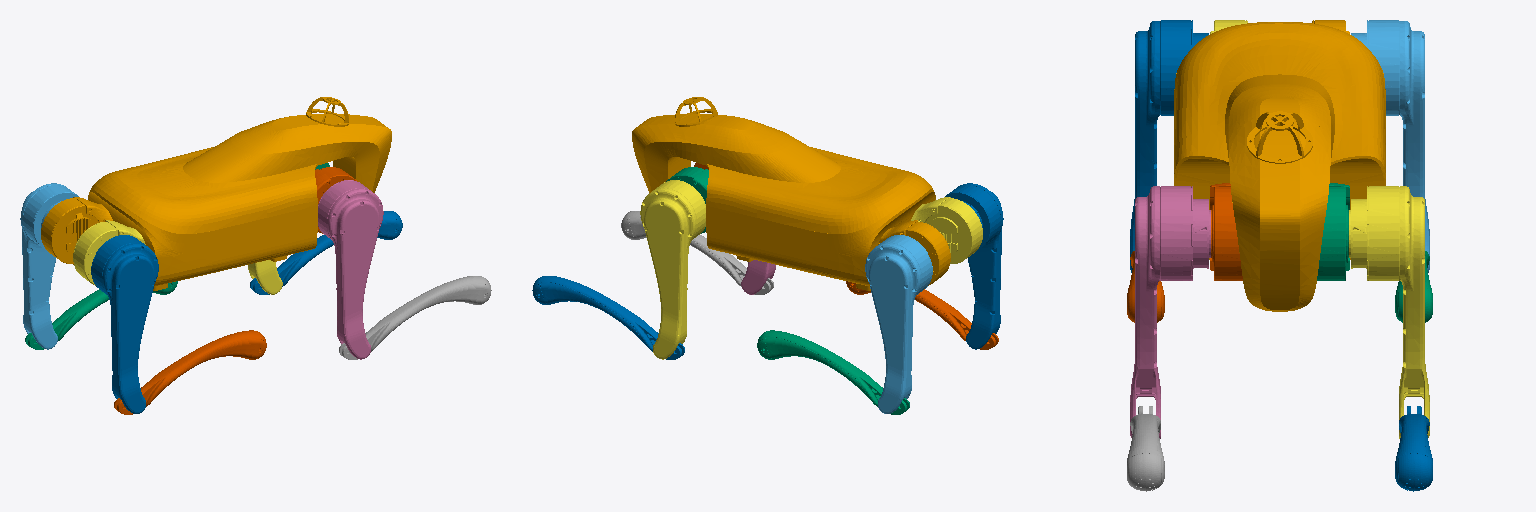
robot.urdf — wr3:
<?xml version="1.0" encoding="utf-8"?>
<!-- This URDF was automatically created by SolidWorks to URDF Exporter! Originally created by [author] ([email redacted]) 
     Commit Version: 1.6.0-4-g7f85cfe  Build Version: 1.6.7995.38578
     For more information, please see http://wiki.ros.org/sw_urdf_exporter -->

<robot name="wr3">

  <mujoco>
    <compiler meshdir="./meshes" balanceinertia="true" discardvisual="false"/>
  </mujoco>
  

  <link  name="trunk_link">
    <inertial>
      <origin  xyz="0 0 0" />
      <mass  value="0" />
      <inertia  ixx="0"  ixy="0"  ixz="0"  iyy="0"  iyz="0"  izz="0" />
    </inertial>
    <visual>
      <geometry>
        <mesh  filename="./meshes/trunk_link.STL" />
      </geometry>
    </visual>
    <collision>
      <geometry>
        <mesh  filename="./meshes/trunk_link.STL" />
      </geometry>
    </collision>
    <!-- Shell self filtering -->
    <self_filter>
        <origin rpy="0 0 0" xyz="0 0 0"/>
        <geometry>
            <box size="1.05 0.5 0.5"/>
        </geometry>
    </self_filter>
  </link>

  <link name="BASE_INER">
    <inertial>
      <origin  xyz="0.023376 0.001413 0.010474" />
      <mass  value="8.028" />
      <inertia  ixx="0.034"  ixy="-1.22E-04"  ixz="9.85E-3"  iyy="0.107105"  iyz="-1.16e-4"  izz="0.115227" />
    </inertial>
  </link>

  <joint name="Base2Iner" type="fixed">
    <parent link="trunk_link" />
    <child link="BASE_INER" />
  </joint>

  <link
    name="FL_hip_link">
    <inertial>
      <origin  xyz="0.057196 0.003387 -8.5E-05" />
      <mass value="0.838" />
      <inertia ixx="0.00059007"  ixy="2.6497E-05"  ixz="6.35E-07"  iyy="0.0010451"  iyz="1.276E-06"  izz="0.00073728" />
    </inertial>
    <visual>
      <geometry>
        <mesh filename="./meshes/FL_hip_link.STL" />
      </geometry>
    </visual>
    <collision>
      <geometry>
        <mesh filename="./meshes/FL_hip_link.STL" />
      </geometry>
    </collision>
  </link>

  <joint  name="FL_hip_joint"  type="revolute">
    <origin  xyz="0.135 0.05 0" />
    <parent  link="trunk_link" />
    <child  link="FL_hip_link" />
    <axis  xyz="1 0 0" />
    <limit  lower="-0.69813"  upper="0.69813"  effort="0" velocity="0" />
    <dynamics damping="0" friction="0" />
  </joint>

  <link  name="FL_thigh_link">
    <inertial>
      <origin  xyz="-0.001565 0.046615 -0.027916"/>
      <mass  value="1.059" />
      <inertia ixx="0.0045409"  ixy="-3.0711E-05"  ixz="0.00016028"  iyy="0.0047458"  iyz="-0.00053625"  izz="0.00080338" />
    </inertial>
    <visual>
      <geometry>
        <mesh
          filename="./meshes/FL_thigh_link.STL" />
      </geometry>
    </visual>
    <collision>
      <geometry>
        <mesh  filename="./meshes/FL_thigh_link.STL" />
      </geometry>
    </collision>
  </link>

  <joint  name="FL_thigh_joint" type="revolute">
    <origin  xyz="0.0625 0.02 0"/>
    <parent  link="FL_hip_link" />
    <child  link="FL_thigh_link" />
    <axis xyz="0 1 0" />
    <limit  lower="-0.66323"  upper="2.792528"  effort="0"  velocity="0" />
    <dynamics damping="0" friction="0" />
  </joint>

  <link  name="FL_calf_link">
    <inertial>
      <origin  xyz="0.008159 0.000159 -0.10787"/>
      <mass  value="0.125" />
      <inertia  ixx="0.00094343"  ixy="2.02E-07" ixz="-8.74E-06" iyy="0.00095562"  iyz="-1.61E-06" izz="2.8849E-05" />
    </inertial>
    <visual>
      <geometry>
        <mesh
          filename="./meshes/FL_calf_link.STL" />
      </geometry>
    </visual>
    <collision>
      <geometry>
        <mesh
          filename="./meshes/FL_calf_link.STL" />
      </geometry>
    </collision>
  </link>

  <joint  name="FL_calf_joint" type="revolute">
    <origin  xyz="0 0.0652 -0.213"/>
    <parent  link="FL_thigh_link" />
    <child link="FL_calf_link" />
    <axis  xyz="0 1 0" />
    <limit  lower="-2.7053"  upper="-0.89012"  effort="0"  velocity="0" />
    <dynamics damping="0" friction="0" />
  </joint>

  <link name="FR_hip_link">
    <inertial>
      <origin  xyz="0.056824 -0.003763 -1.9E-05"/>
      <mass  value="0.826" />
      <inertia ixx="0.00057386"  ixy="-2.6419E-05"  ixz="1.484E-06"  iyy="0.0010263" iyz="-3.312E-06" izz="0.00071938" />
    </inertial>
    <visual>
      <geometry>
        <mesh
          filename="./meshes/FR_hip_link.STL" />
      </geometry>
    </visual>
    <collision>
      <geometry>
        <mesh
          filename="./meshes/FR_hip_link.STL" />
      </geometry>
    </collision>
  </link>

  <joint  name="FR_hip_joint"  type="revolute">
    <origin  xyz="0.135 -0.05 0"/>
    <parent  link="trunk_link" />
    <child  link="FR_hip_link" />
    <axis  xyz="1 0 0" />
    <limit  lower="-0.69813"  upper="0.69813"  effort="0"  velocity="0" />
    <dynamics damping="0" friction="0" />
  </joint>

  <link name="FR_thigh_link">
    <inertial>
      <origin  xyz="-0.001574 -0.046573 -0.027836"/>
      <mass  value="1.057" />
      <inertia  ixx="0.0045363"  ixy="3.1815E-05"  ixz="0.00014708"  iyy="0.0047425"  iyz="0.00053467"  izz="0.00080311" />
    </inertial>
    <visual>
      <geometry>
        <mesh
          filename="./meshes/FR_thigh_link.STL" />
      </geometry>
    </visual>
    <collision>
      <geometry>
        <mesh
          filename="./meshes/FR_thigh_link.STL" />
      </geometry>
    </collision>
  </link>

  <joint name="FR_thigh_joint"  type="revolute">
    <origin  xyz="0.0625 -0.02 0" />
    <parent  link="FR_hip_link" />
    <child  link="FR_thigh_link" />
    <axis xyz="0 1 0" />
    <limit  lower="-0.66323"  upper="2.792528" effort="0" velocity="0" />
    <dynamics damping="0" friction="0" />
  </joint>

  <link  name="FR_calf_link">
    <inertial>
      <origin xyz="0.00816 -0.000208 -0.10787"/>
      <mass  value="0.125" />
      <inertia  ixx="0.00094347"  ixy="-1.81E-05"  ixz="-8.745E-05"
        iyy="0.00095566" iyz="8.34E-07" izz="2.8848E-05" />
    </inertial>
    <visual>
      <geometry>
        <mesh
          filename="./meshes/FR_calf_link.STL" />
      </geometry>
    </visual>
    <collision>
      <geometry>
        <mesh
          filename="./meshes/FR_calf_link.STL" />
      </geometry>
    </collision>
  </link>

  <joint  name="FR_calf_joint"  type="revolute">
    <origin  xyz="0 -0.0652 -0.213"/>
    <parent  link="FR_thigh_link" />
    <child link="FR_calf_link" />
    <axis  xyz="0 1 0" />
    <limit  lower="-2.7053"  upper="-0.89012"  effort="0" velocity="0" />
    <dynamics damping="0" friction="0" />
  </joint>

  <link  name="RL_hip_link">
    <inertial>
      <origin  xyz="-0.056595 0.004147 8.9E-05"/>
      <mass  value="0.81" />
      <inertia  ixx="0.00056372" ixy="-2.5231E-05"  ixz="1.942E-06"  iyy="0.0010172"  iyz="5.163E-06"  izz="0.00070424" />
    </inertial>
    <visual>
      <geometry>
        <mesh
          filename="./meshes/RL_hip_link.STL" />
      </geometry>
    </visual>
    <collision>
      <geometry>
        <mesh
          filename="./meshes/RL_hip_link.STL" />
      </geometry>
    </collision>
  </link>

  <joint  name="RL_hip_joint" type="revolute">
    <origin  xyz="-0.135 0.05 0"/>
    <parent link="trunk_link" />
    <child link="RL_hip_link" />
    <axis  xyz="1 0 0" />
    <limit  lower="-0.69813"  upper="0.69813" effort="0"  velocity="0" />
    <dynamics damping="0" friction="0" />
  </joint>

  <link  name="RL_thigh_link">
    <inertial>
      <origin  xyz="-0.001565 0.046615 -0.027916"/>
      <mass  value="1.059" />
      <inertia  ixx="0.0045409"  ixy="-3.0711E-05"  ixz="0.00016028" iyy="0.0047458"  iyz="-0.00053625"  izz="0.00080338" />
    </inertial>
    <visual>
      <geometry>
        <mesh  filename="./meshes/RL_thigh_link.STL" />
      </geometry>
    </visual>
    <collision>
      <geometry>
        <mesh  filename="./meshes/RL_thigh_link.STL" />
      </geometry>
    </collision>
  </link>

  <joint  name="RL_thigh_joint" type="revolute">
    <origin xyz="-0.0625 0.02 0"/>
    <parent link="RL_hip_link" />
    <child  link="RL_thigh_link" />
    <axis xyz="0 1 0" />
    <limit  lower="-0.66323" upper="4.502951" effort="0" velocity="0" />
    <dynamics damping="0" friction="0" />
  </joint>

  <link  name="RL_calf_link">
    <inertial>
      <origin  xyz="0.008159 0.000159 -0.10787"/>
      <mass  value="0.125" />
      <inertia  ixx="0.00094343"  ixy="2.02E-07"  ixz="-8.74E-06"  iyy="0.00095562"  iyz="-1.61E-06"  izz="2.8849E-05" />
    </inertial>
    <visual>
      <geometry>
        <mesh  filename="./meshes/RL_calf_link.STL" />
      </geometry>
    </visual>
    <collision>
      <geometry>
        <mesh  filename="./meshes/RL_calf_link.STL" />
      </geometry>
    </collision>
  </link>

  <joint name="RL_calf_joint" type="revolute">
    <origin  xyz="0 0.0652 -0.213"/>
    <parent  link="RL_thigh_link" />
    <child link="RL_calf_link" />
    <axis  xyz="0 1 0" />
    <limit  lower="-2.7053"  upper="-0.89012"  effort="0"  velocity="0" />
    <dynamics damping="0" friction="0" />
  </joint>

  <link  name="RR_hip_link">
    <inertial>
      <origin  xyz="-0.056604 -0.004164 0.000119"/>
      <mass  value="0.81" />
      <inertia ixx="0.00056443"  ixy="2.5833E-05"  ixz="1.693E-06"  iyy="0.0010173"  iyz="-6.088E-06"  izz="0.00070474" />
    </inertial>
    <visual>
      <geometry>
        <mesh filename="./meshes/RR_hip_link.STL" />
      </geometry>
    </visual>
    <collision>
      <geometry>
        <mesh filename="./meshes/RR_hip_link.STL" />
      </geometry>
    </collision>
  </link>

  <joint  name="RR_hip_joint"  type="revolute">
    <origin  xyz="-0.135 -0.05 0"/>
    <parent  link="trunk_link" />
    <child  link="RR_hip_link" />
    <axis  xyz="1 0 0" />
    <limit  lower="-0.698132" upper="0.698132"  effort="0"  velocity="0" />
    <dynamics damping="0" friction="0" />
  </joint>

  <link  name="RR_thigh_link">
    <inertial>
      <origin  xyz="-0.001574 -0.046573 -0.027836" />
      <mass   value="1.057" />
      <inertia ixx="0.0045363"  ixy="3.1815E-05"  ixz="0.00014708"  iyy="0.0047425"  iyz="0.00053467"  izz="0.00080311" />
    </inertial>
    <visual>
      <geometry>
        <mesh filename="./meshes/RR_thigh_link.STL" />
      </geometry>
    </visual>
    <collision>
      <geometry>
        <mesh  filename="./meshes/RR_thigh_link.STL" />
      </geometry>
    </collision>
  </link>

  <joint  name="RR_thigh_joint"  type="revolute">
    <origin  xyz="-0.0625 -0.02 0"/>
    <parent  link="RR_hip_link" />
    <child  link="RR_thigh_link" />
    <axis  xyz="0 1 0" />
    <limit  lower="-0.663225"  upper="4.502951"  effort="0"  velocity="0" />
    <dynamics damping="0" friction="0" />
  </joint>

  <link  name="RR_calf_link">
    <inertial>
      <origin xyz="0.00816 -0.000208 -0.10787"/>
      <mass value="0.125" />
      <inertia  ixx="0.00094347"  ixy="-1.81E-05"  ixz="-8.745E-05"  iyy="0.00095566" iyz="8.34E-07"  izz="2.8848E-05" />
    </inertial>
    <visual>
      <geometry>
        <mesh filename="./meshes/RR_calf_link.STL" />
      </geometry>
    </visual>
    <collision>
      <geometry>
        <mesh  filename="./meshes/RR_calf_link.STL" />
      </geometry>
    </collision>
  </link>

  <joint name="RR_calf_joint" type="revolute">
    <origin xyz="0 -0.0652 -0.213"/>
    <parent  link="RR_thigh_link" />
    <child  link="RR_calf_link" />
    <axis  xyz="0 1 0" />
    <limit  lower="-2.7053"  upper="-0.89012"  effort="0"  velocity="0" />
    <dynamics damping="0" friction="0" />
  </joint>
  
</robot>

--- Facts derived from the render (not from the file) ---
Views: 3 orthographic renders of the robot side by side, from view 1: azimuth 30°, elevation 25°; view 2: azimuth 150°, elevation 25°; view 3: azimuth 270°, elevation 25°.
Model wr3 with 14 links and 13 joints (12 revolute, 1 fixed), rooted at trunk_link, posed all joints at 0 but 4 set to mid-range because 0 is outside their limits (FL_calf_joint = -1.8, FR_calf_joint = -1.8, RL_calf_joint = -1.8, RR_calf_joint = -1.8).
Visible links, largest first — view 1: trunk_link, RR_thigh_link, FR_thigh_link, RL_thigh_link, RR_calf_link, FR_calf_link, RL_hip_link, RR_hip_link, FL_calf_link, RL_calf_link, FL_thigh_link, FR_hip_link; view 2: trunk_link, RL_thigh_link, FL_thigh_link, RR_thigh_link, RL_calf_link, FL_calf_link, RR_hip_link, RL_hip_link, FR_calf_link, RR_calf_link, FR_thigh_link, FL_hip_link; view 3: trunk_link, FL_thigh_link, FR_thigh_link, RR_thigh_link, RL_thigh_link, FL_calf_link, FR_calf_link, FL_hip_link, FR_hip_link, RL_calf_link, RR_calf_link.
Link boxes in pixels (bbox=[...]): trunk_link: bbox=[88, 97, 391, 290]; RR_thigh_link: bbox=[91, 235, 158, 413]; FR_thigh_link: bbox=[318, 180, 383, 359]; RL_thigh_link: bbox=[20, 183, 78, 349]; RR_calf_link: bbox=[114, 330, 266, 414]; FR_calf_link: bbox=[339, 276, 491, 359]; RL_hip_link: bbox=[41, 197, 112, 264]; RR_hip_link: bbox=[73, 220, 145, 285]; FL_calf_link: bbox=[250, 211, 402, 294]; RL_calf_link: bbox=[25, 281, 177, 349]; FL_thigh_link: bbox=[248, 260, 282, 294]; FR_hip_link: bbox=[315, 167, 357, 233]; trunk_link: bbox=[632, 97, 935, 290]; RL_thigh_link: bbox=[865, 235, 932, 413]; FL_thigh_link: bbox=[640, 180, 705, 359]; RR_thigh_link: bbox=[945, 183, 1003, 349]; RL_calf_link: bbox=[757, 330, 909, 414]; FL_calf_link: bbox=[532, 276, 684, 359]; RR_hip_link: bbox=[911, 197, 982, 263]; RL_hip_link: bbox=[878, 220, 950, 285]; FR_calf_link: bbox=[621, 211, 773, 294]; RR_calf_link: bbox=[846, 281, 998, 349]; FR_thigh_link: bbox=[741, 260, 775, 294]; FL_hip_link: bbox=[666, 167, 708, 233]; trunk_link: bbox=[1174, 22, 1385, 311]; FL_thigh_link: bbox=[1349, 186, 1429, 438]; FR_thigh_link: bbox=[1130, 186, 1210, 438]; RR_thigh_link: bbox=[1130, 20, 1208, 272]; RL_thigh_link: bbox=[1351, 20, 1429, 272]; FL_calf_link: bbox=[1395, 406, 1432, 491]; FR_calf_link: bbox=[1127, 406, 1164, 491]; FL_hip_link: bbox=[1317, 183, 1349, 280]; FR_hip_link: bbox=[1210, 183, 1242, 280]; RL_calf_link: bbox=[1395, 251, 1432, 322]; RR_calf_link: bbox=[1127, 251, 1164, 322].
Bounding box of the posed robot: 0.672 × 0.3085 × 0.3754 m (x, y, z).
Meshes: 13 distinct files referenced, 13 mesh visuals loaded (13 binary STL).